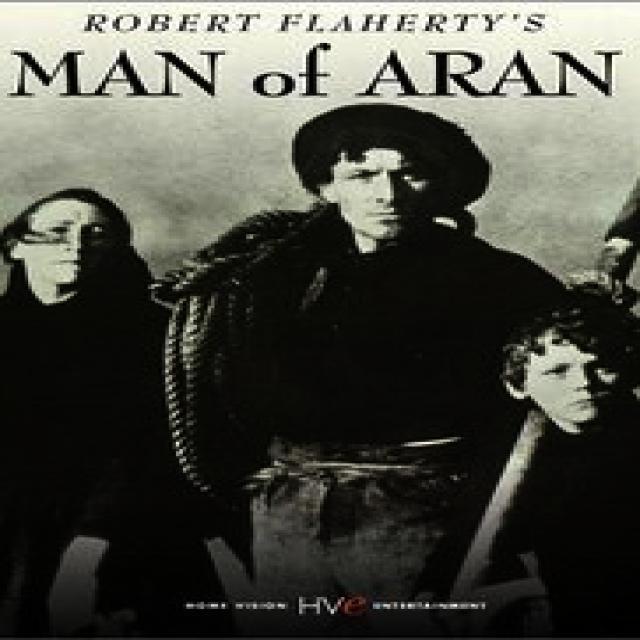movie-judul: (4, 41, 630, 104)
picture: (2, 105, 640, 596)
